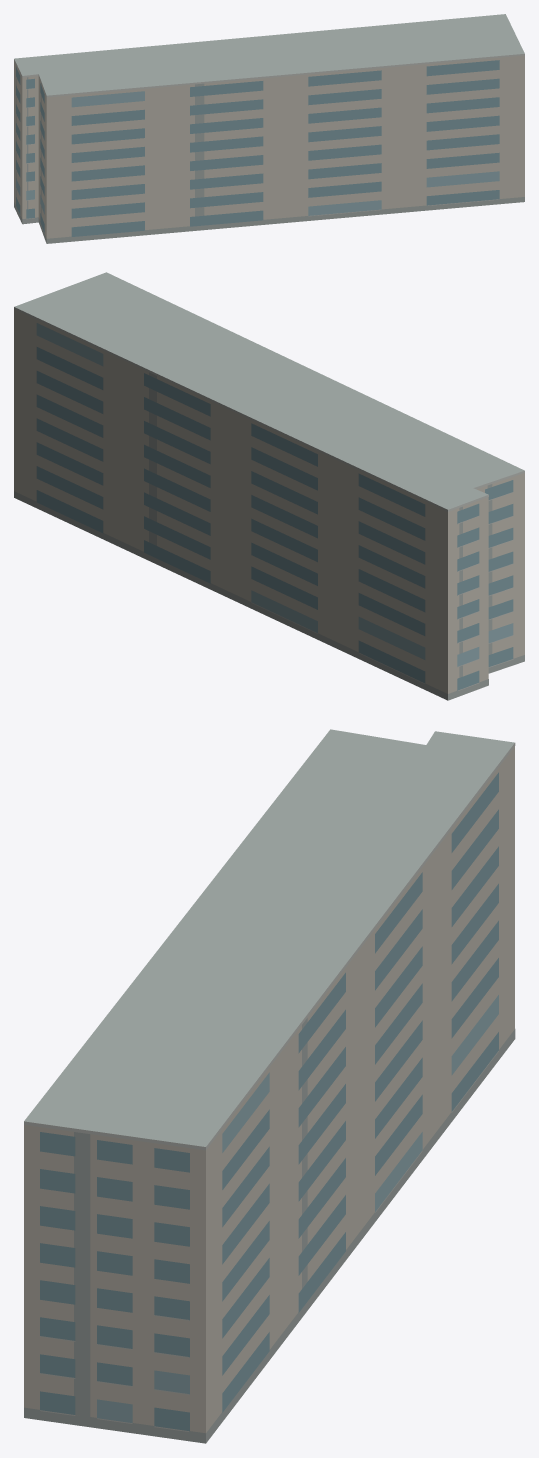
File: survey-upis-32869304.glb
The picture shows the model from 3 angles, top to bottom: view 1: azimuth 30°, elevation 25°; view 2: azimuth 150°, elevation 25°; view 3: azimuth 270°, elevation 25°; orthographic projection. The views are drawn at different scales.
Parts seen in each view (by area): view 1: survey-upis-32869304.tmp; view 2: survey-upis-32869304.tmp; view 3: survey-upis-32869304.tmp.
Part boxes in pixels (left/top/right/bottom): survey-upis-32869304.tmp: left=14, top=14, right=524, bottom=243; survey-upis-32869304.tmp: left=14, top=272, right=524, bottom=700; survey-upis-32869304.tmp: left=24, top=729, right=515, bottom=1443.
Size of the model in its own units: 63.15 by 20.9 by 31.38.
